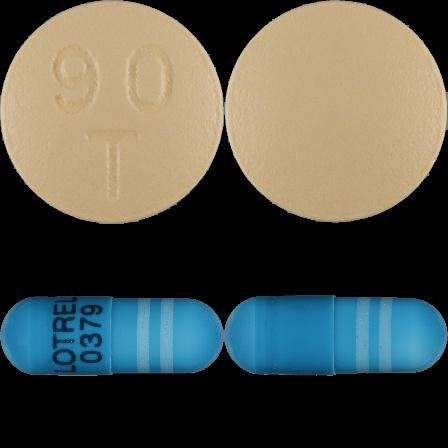55154-9618: (0, 0, 224, 224)
